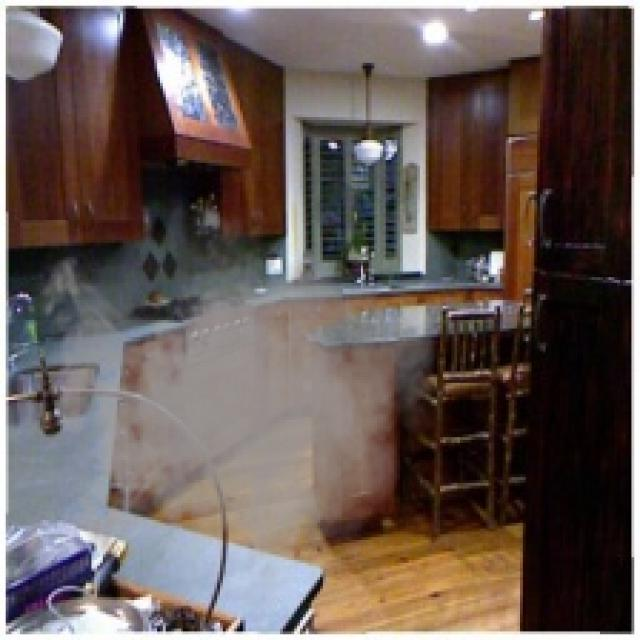smoke: (28, 194, 443, 617)
